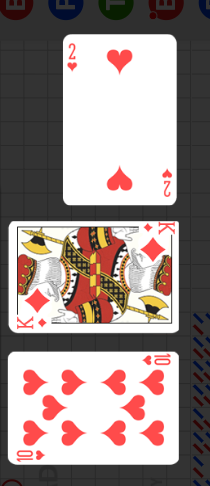10H: (15, 448, 48, 462)
2H: (66, 42, 80, 74), (160, 166, 173, 198)
